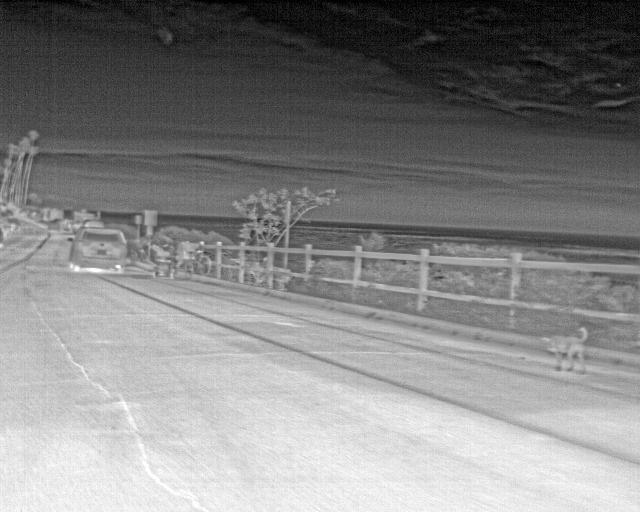car: (64, 226, 128, 272)
dog: (538, 325, 589, 376)
